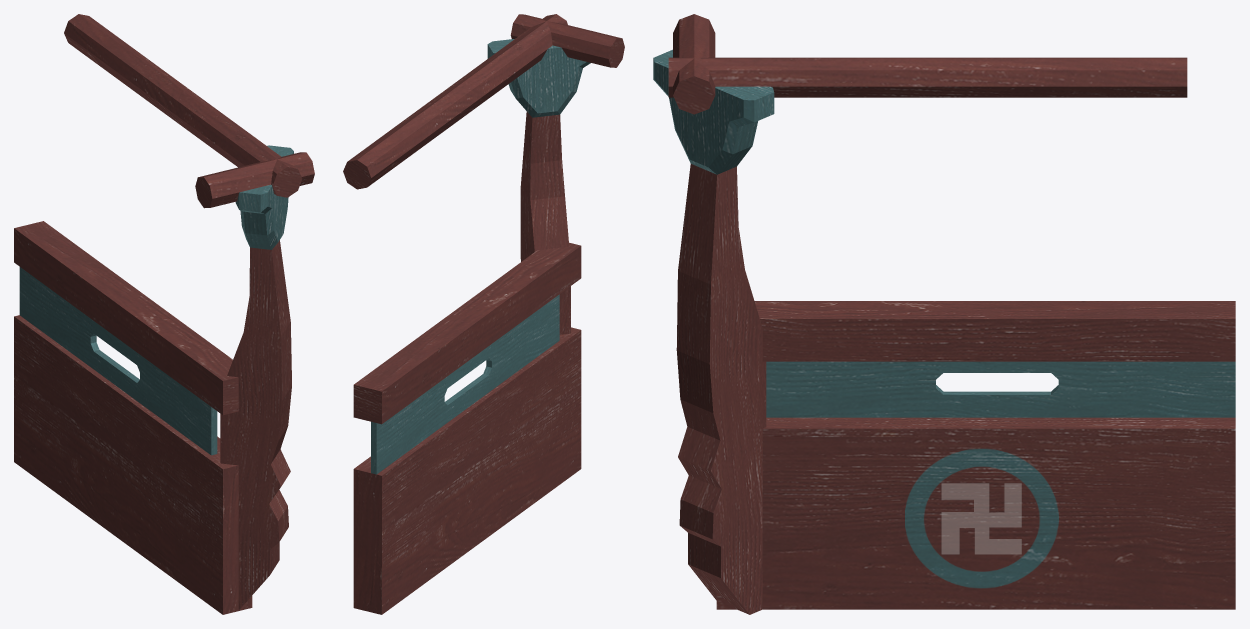
Rendered from SM_Song_Jong_Rail_B.fbx.
3 views of the same model, side by side, from view 1: azimuth 30°, elevation 25°; view 2: azimuth 150°, elevation 25°; view 3: azimuth 270°, elevation 25° (orthographic). The views are drawn at different scales.
Visible parts, largest first — view 1: SM_Song_Jong_Rail_B; view 2: SM_Song_Jong_Rail_B; view 3: SM_Song_Jong_Rail_B.
Boxes of the visible parts, bbox=[...] form: SM_Song_Jong_Rail_B: bbox=[14, 14, 314, 614]; SM_Song_Jong_Rail_B: bbox=[343, 14, 624, 614]; SM_Song_Jong_Rail_B: bbox=[653, 14, 1235, 614].
Bounding box in the file's own units: 18.75 × 72.87 × 68.58.
